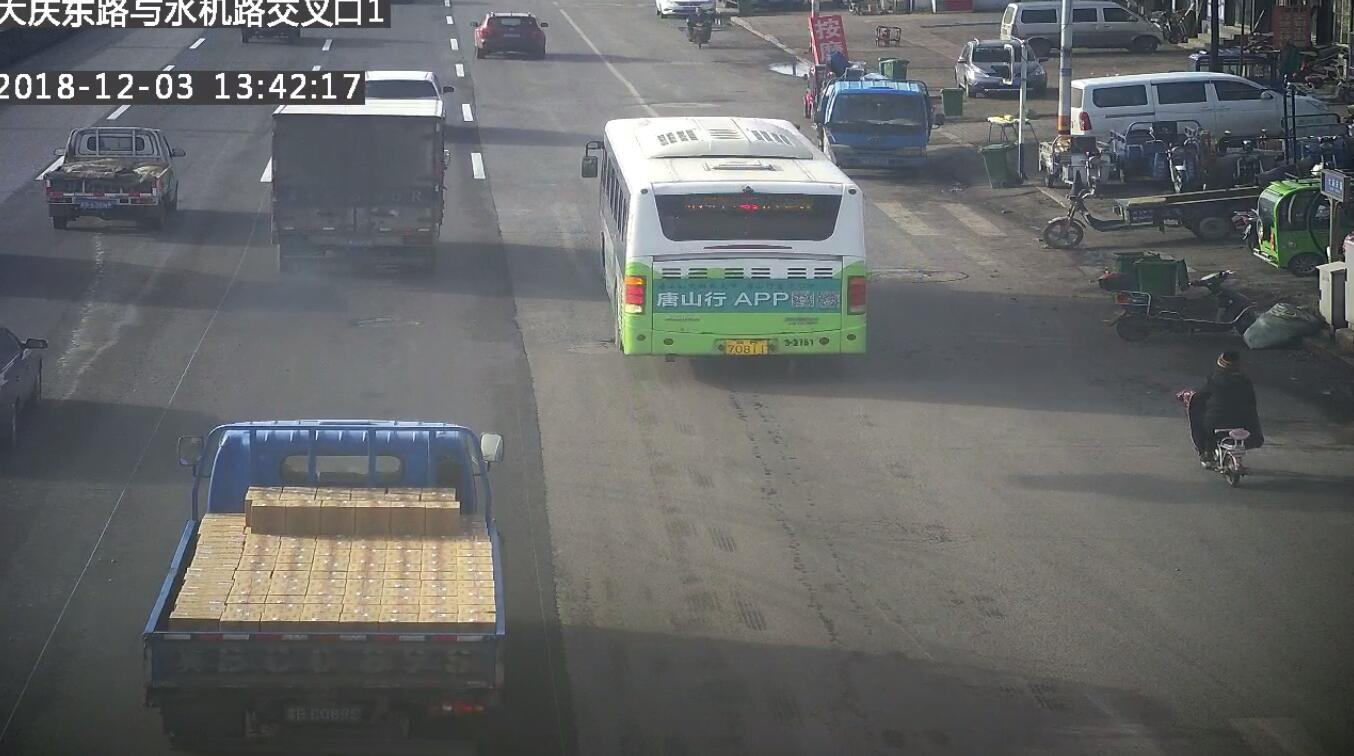yanwu: (261, 248, 365, 336)
